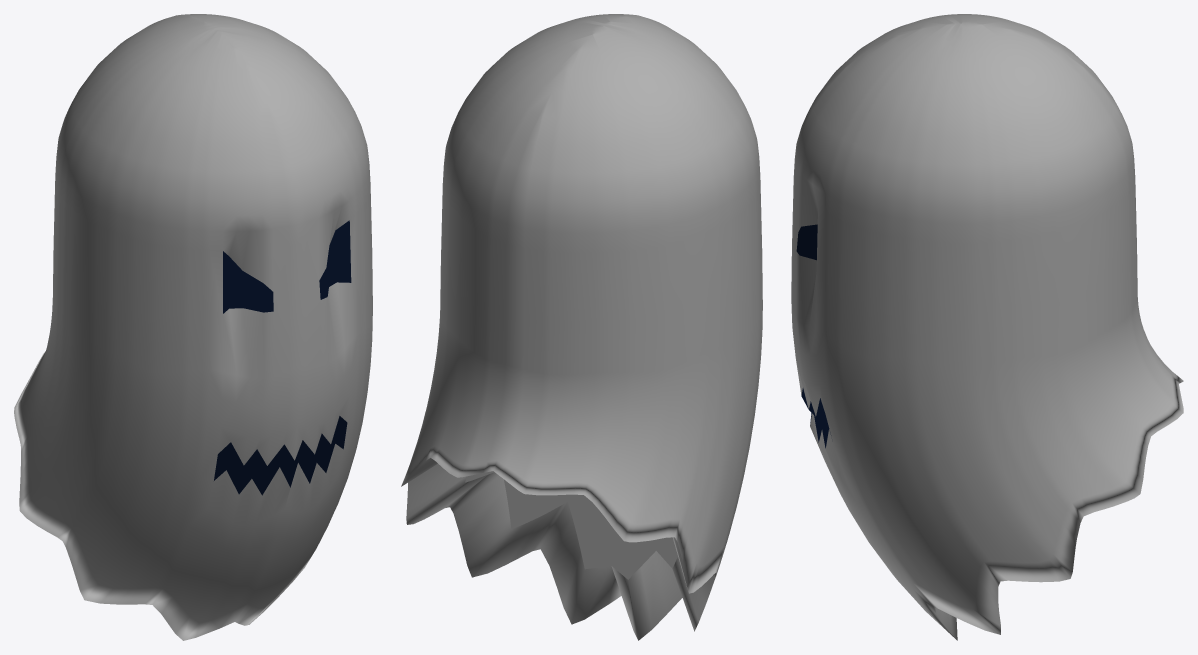
The model's file is Ghost_01.fbx.
3 views of the same model, side by side, from view 1: azimuth 30°, elevation 25°; view 2: azimuth 150°, elevation 25°; view 3: azimuth 270°, elevation 25° (orthographic).
Parts seen in each view (by area): view 1: pSphere1; view 2: pSphere1; view 3: pSphere1.
Boxes of the visible parts, x1,y1,x2,y2 form: pSphere1: (14,14,372,640); pSphere1: (401,14,762,640); pSphere1: (791,14,1183,640).
Bounding box in the file's own units: 270 × 557 × 329.
